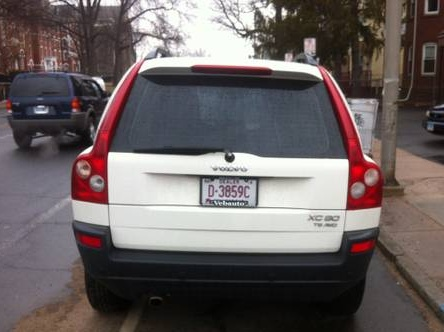volvo: (27, 39, 444, 325)
